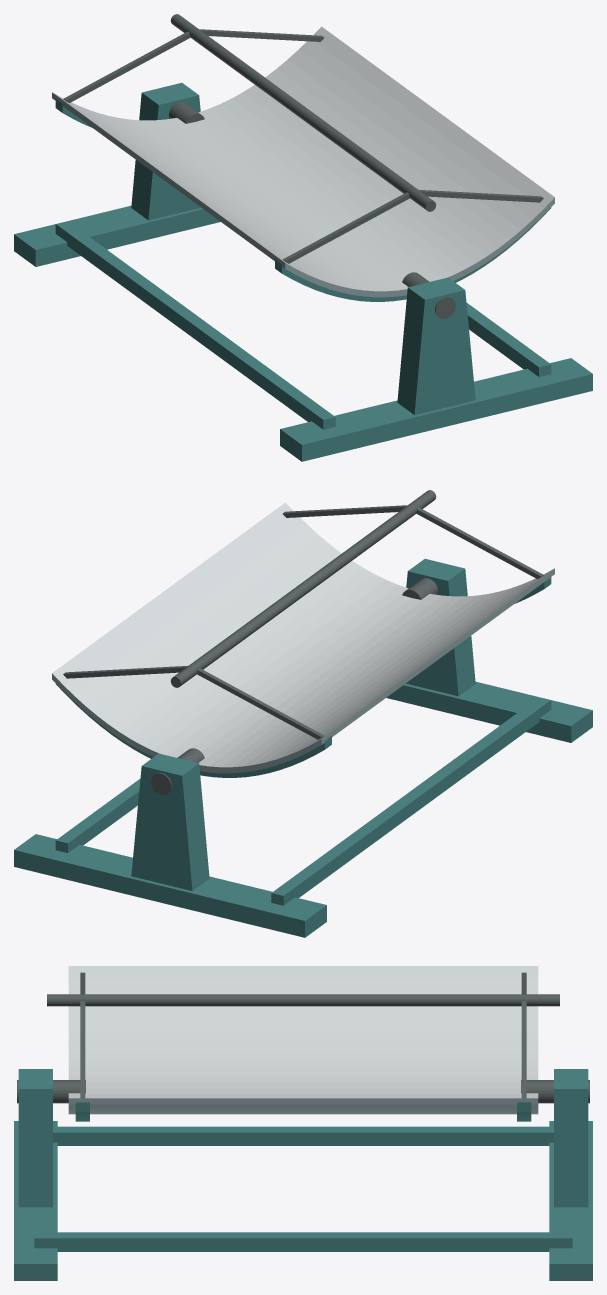
3 renders of one model, top to bottom at view 1: azimuth 30°, elevation 25°; view 2: azimuth 150°, elevation 25°; view 3: azimuth 270°, elevation 25°, orthographic.
Visible parts, largest first — view 1: WholeSingleCurvatureOpenReflectorTrough, NearWholeCrossFoot, NearWholeTaperedEndBearingPost, LeftWholeStandLongitudinalTie, FarWholeCrossFoot, WholeLongitudinalReceiverStyleTube, FarWholeTaperedEndBearingPost, RightWholeStandLongitudinalTie, NearWholeCurvedEndReinforcement, FarLeftWholeReceiverSupport, NearLeftWholeReceiverSupport, FarRightWholeReceiverSupport (+2 smaller); view 2: WholeSingleCurvatureOpenReflectorTrough, FarWholeCrossFoot, FarWholeTaperedEndBearingPost, LeftWholeStandLongitudinalTie, NearWholeCrossFoot, WholeLongitudinalReceiverStyleTube, NearWholeTaperedEndBearingPost, RightWholeStandLongitudinalTie, FarWholeCurvedEndReinforcement, FarLeftWholeReceiverSupport, NearLeftWholeReceiverSupport, NearRightWholeReceiverSupport (+2 smaller); view 3: WholeSingleCurvatureOpenReflectorTrough, RightWholeStandLongitudinalTie, LeftWholeStandLongitudinalTie, WholeLongitudinalReceiverStyleTube, FarWholeTaperedEndBearingPost, NearWholeTaperedEndBearingPost, FarWholeCrossFoot, NearWholeCrossFoot, FarWholeFixedEndTrunnion, NearWholeFixedEndTrunnion, FarRightWholeReceiverSupport, NearRightWholeReceiverSupport.
Boxes of the visible parts, x1,y1,x2,y2 form: WholeSingleCurvatureOpenReflectorTrough: (52, 26, 554, 297); NearWholeCrossFoot: (280, 358, 592, 461); NearWholeTaperedEndBearingPost: (397, 277, 475, 414); LeftWholeStandLongitudinalTie: (55, 221, 335, 429); FarWholeCrossFoot: (14, 205, 220, 266); WholeLongitudinalReceiverStyleTube: (170, 14, 436, 211); FarWholeTaperedEndBearingPost: (131, 82, 200, 220); RightWholeStandLongitudinalTie: (466, 303, 551, 376); NearWholeCurvedEndReinforcement: (275, 207, 551, 301); FarLeftWholeReceiverSupport: (63, 31, 190, 103); NearLeftWholeReceiverSupport: (282, 192, 409, 263); FarRightWholeReceiverSupport: (199, 29, 324, 41); WholeSingleCurvatureOpenReflectorTrough: (52, 502, 554, 773); FarWholeCrossFoot: (14, 834, 326, 937); FarWholeTaperedEndBearingPost: (131, 753, 209, 890); LeftWholeStandLongitudinalTie: (271, 697, 551, 905); NearWholeCrossFoot: (386, 681, 592, 742); WholeLongitudinalReceiverStyleTube: (170, 490, 436, 687); NearWholeTaperedEndBearingPost: (406, 558, 475, 696); RightWholeStandLongitudinalTie: (55, 779, 140, 852); FarWholeCurvedEndReinforcement: (55, 683, 331, 777); FarLeftWholeReceiverSupport: (197, 668, 324, 739); NearLeftWholeReceiverSupport: (416, 507, 543, 579); NearRightWholeReceiverSupport: (282, 505, 407, 517); WholeSingleCurvatureOpenReflectorTrough: (68, 966, 538, 1114); RightWholeStandLongitudinalTie: (34, 1232, 572, 1251); LeftWholeStandLongitudinalTie: (53, 1126, 553, 1145); WholeLongitudinalReceiverStyleTube: (47, 994, 559, 1006); FarWholeTaperedEndBearingPost: (554, 1069, 588, 1207); NearWholeTaperedEndBearingPost: (18, 1069, 52, 1207); FarWholeCrossFoot: (549, 1121, 592, 1280); NearWholeCrossFoot: (14, 1121, 57, 1280); FarWholeFixedEndTrunnion: (521, 1080, 589, 1103); NearWholeFixedEndTrunnion: (17, 1080, 85, 1103); FarRightWholeReceiverSupport: (521, 1001, 526, 1098); NearRightWholeReceiverSupport: (80, 1001, 85, 1098).
Bounding box in the file's own units: 2.16 × 1.51 × 3.7.
